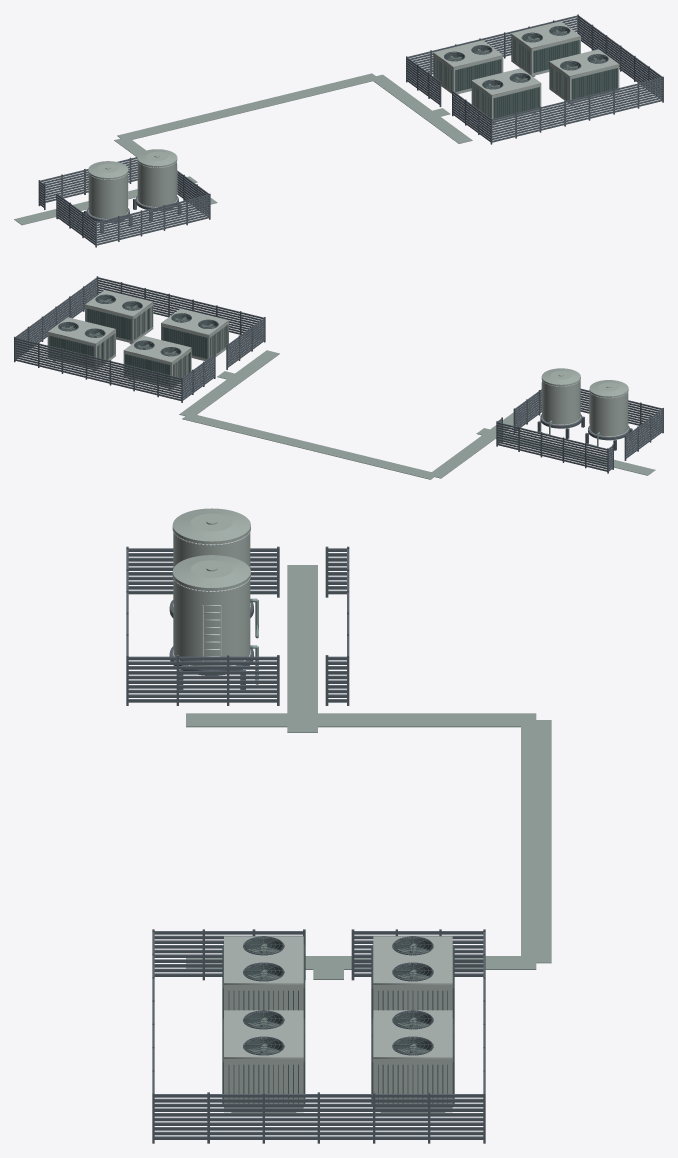
File: roof-utilities.glb
The picture shows the model from 3 angles, top to bottom: view 1: azimuth 30°, elevation 25°; view 2: azimuth 150°, elevation 25°; view 3: azimuth 270°, elevation 25°; orthographic projection. The views are drawn at different scales.
Parts seen in each view (by area): view 1: Roof utilities - louvered service screens, Roof utilities - service walkways, Water tank 1 - body and cap, Water tank 2 - body and cap, AC 4 - stationary cooling fins, AC 2 - stationary cooling fins, AC 3 - stationary cooling fins, AC 1 - stationary cooling fins, AC 3 - stationary casing, AC 4 - stationary casing, AC 1 - stationary casing, AC 2 - stationary casing (+4 smaller); view 2: Roof utilities - louvered service screens, Roof utilities - service walkways, Water tank 1 - body and cap, Water tank 2 - body and cap, AC 4 - stationary cooling fins, AC 2 - stationary cooling fins, AC 3 - stationary cooling fins, AC 1 - stationary cooling fins, AC 4 - stationary casing, AC 2 - stationary casing, AC 3 - stationary casing, AC 1 - perforated top deck (+5 smaller); view 3: Roof utilities - louvered service screens, Roof utilities - service walkways, Water tank 2 - body and cap, Water tank 1 - body and cap, AC 3 - stationary casing, AC 4 - stationary casing, AC 3 - perforated top deck, AC 1 - perforated top deck, AC 4 - perforated top deck, AC 2 - perforated top deck, AC 1 - stationary casing, AC 2 - stationary casing (+7 smaller).
Boxes of the visible parts, box(x1,y1,x2,y2) form: Roof utilities - louvered service screens: box(38, 14, 663, 247); Roof utilities - service walkways: box(14, 73, 472, 225); Water tank 1 - body and cap: box(88, 161, 128, 218); Water tank 2 - body and cap: box(137, 149, 177, 206); AC 4 - stationary cooling fins: box(550, 66, 617, 100); AC 2 - stationary cooling fins: box(472, 84, 539, 118); AC 3 - stationary cooling fins: box(511, 38, 579, 72); AC 1 - stationary cooling fins: box(434, 56, 501, 91); AC 3 - stationary casing: box(511, 34, 580, 76); AC 4 - stationary casing: box(549, 62, 619, 104); AC 1 - stationary casing: box(433, 53, 503, 94); AC 2 - stationary casing: box(471, 81, 541, 123); Roof utilities - louvered service screens: box(14, 276, 663, 473); Roof utilities - service walkways: box(179, 350, 655, 479); Water tank 1 - body and cap: box(589, 380, 628, 436); Water tank 2 - body and cap: box(541, 368, 580, 424); AC 4 - stationary cooling fins: box(86, 306, 152, 340); AC 2 - stationary cooling fins: box(162, 325, 228, 358); AC 3 - stationary cooling fins: box(49, 333, 115, 366); AC 1 - stationary cooling fins: box(125, 352, 190, 385); AC 4 - stationary casing: box(85, 302, 153, 344); AC 2 - stationary casing: box(161, 321, 228, 360); AC 3 - stationary casing: box(47, 329, 115, 370); AC 1 - perforated top deck: box(123, 335, 191, 362); Roof utilities - louvered service screens: box(126, 546, 485, 1143); Roof utilities - service walkways: box(186, 565, 551, 979); Water tank 2 - body and cap: box(172, 555, 250, 665); Water tank 1 - body and cap: box(172, 508, 250, 567); AC 3 - stationary casing: box(373, 1058, 452, 1112); AC 4 - stationary casing: box(224, 1058, 303, 1112); AC 3 - perforated top deck: box(373, 1010, 452, 1058); AC 1 - perforated top deck: box(373, 936, 452, 984); AC 4 - perforated top deck: box(224, 1010, 303, 1058); AC 2 - perforated top deck: box(224, 936, 303, 984); AC 1 - stationary casing: box(373, 984, 452, 1010); AC 2 - stationary casing: box(224, 984, 303, 1010).
Size of the model in its own units: 42.14 by 3.71 by 13.11.
